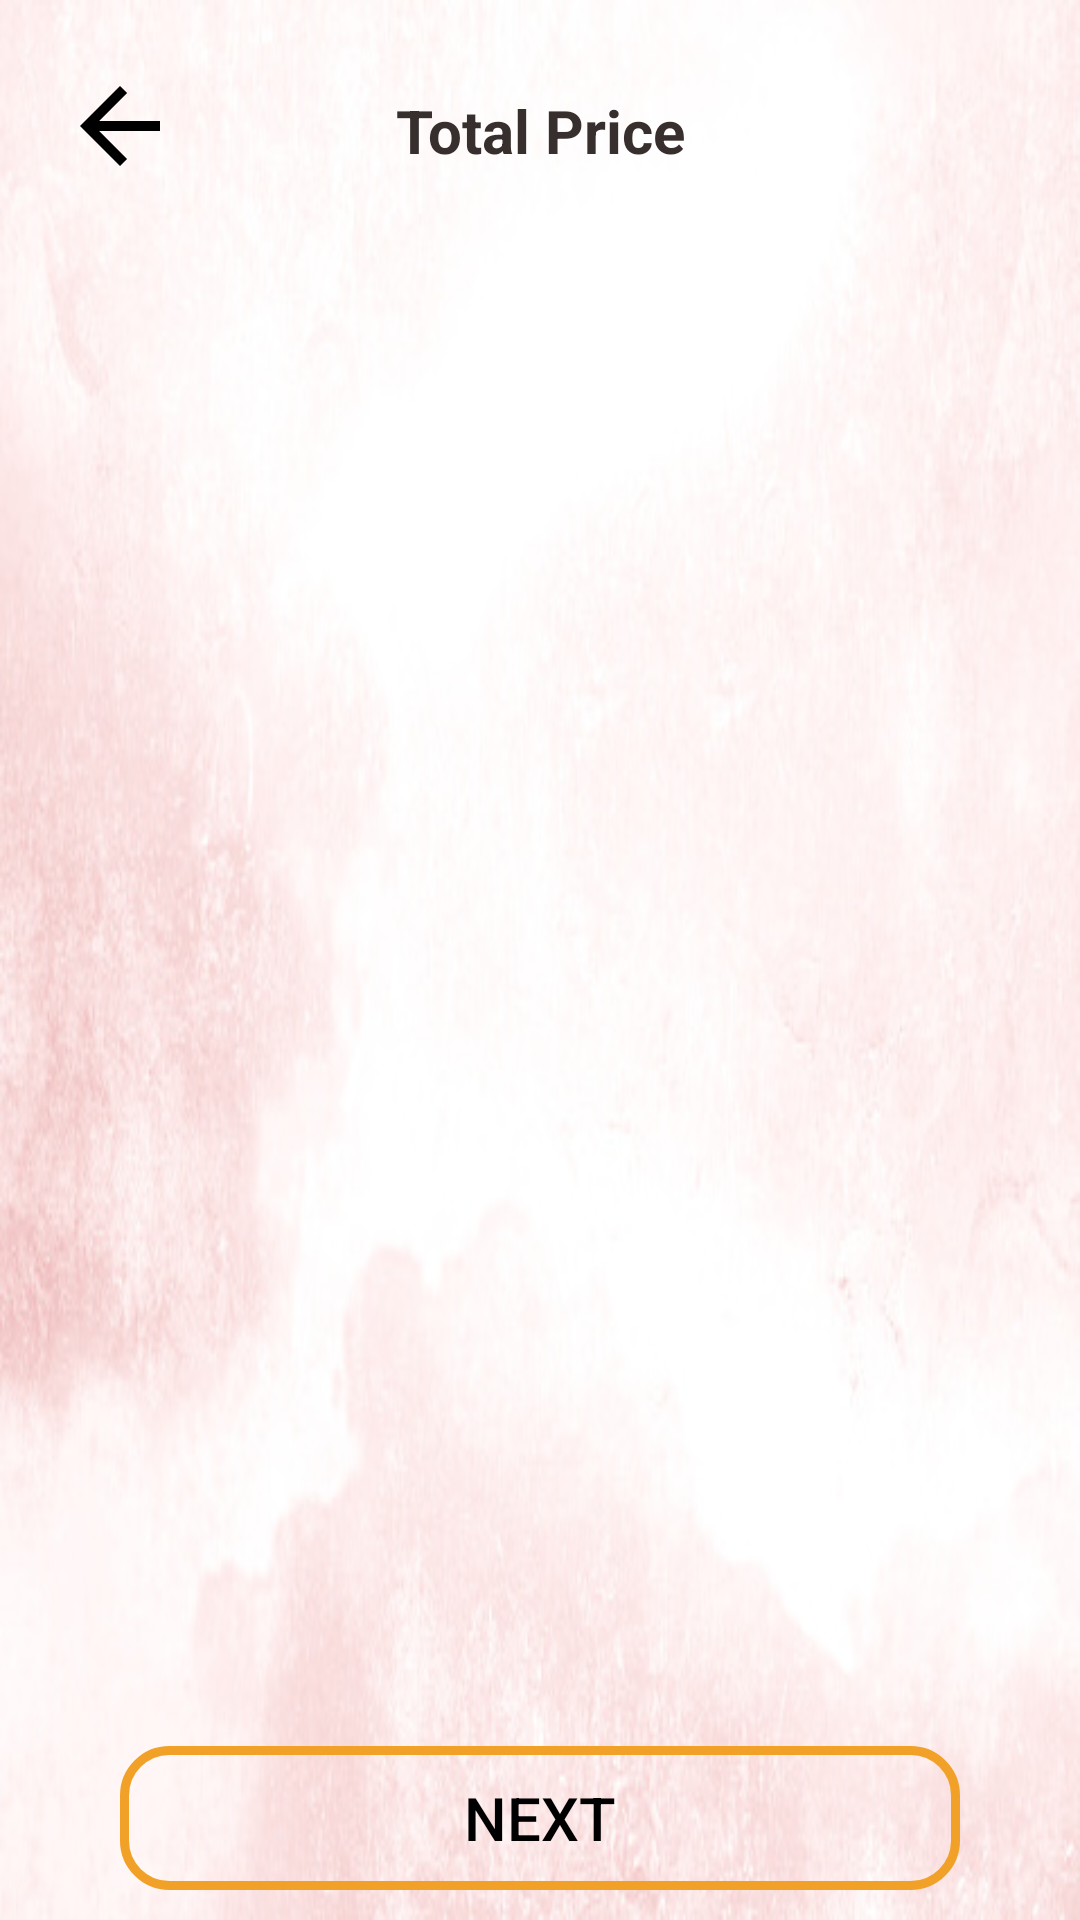

Icon click points for this 1080x1920 phone screenshot, format point (x, y):
back: point (120, 126)
